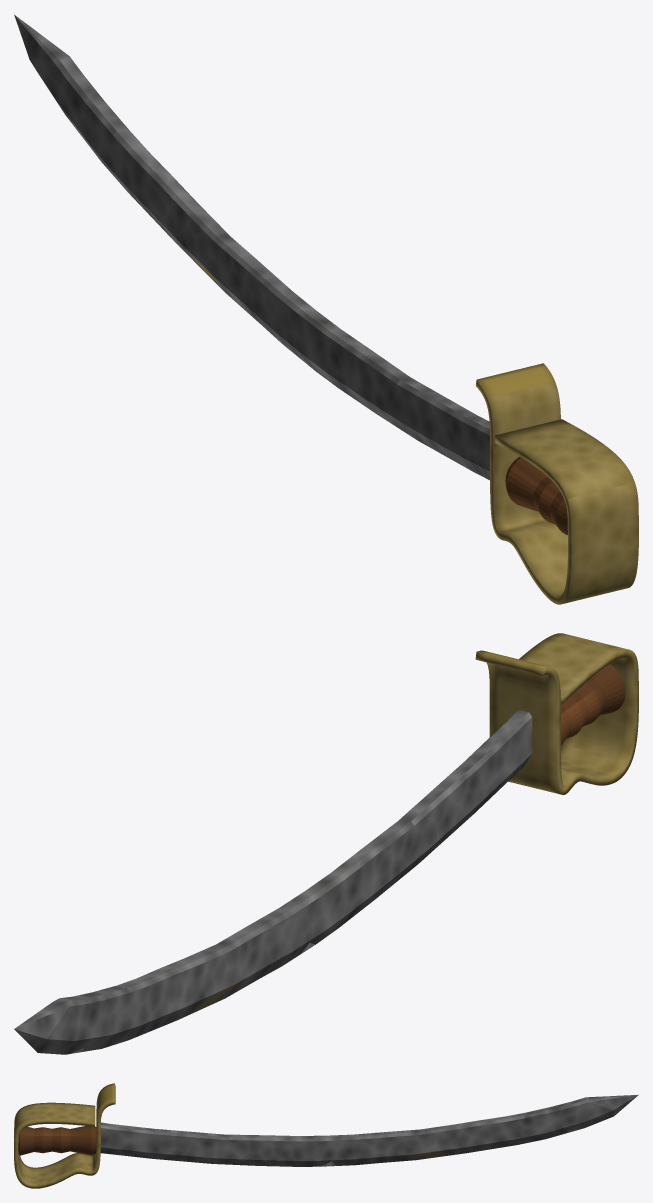
Rendered from Saber.fbx.
3 views of the same model, one above another, from view 1: azimuth 30°, elevation 25°; view 2: azimuth 150°, elevation 25°; view 3: azimuth 270°, elevation 25° (orthographic). The views are drawn at different scales.
Parts seen in each view (by area): view 1: Cube; view 2: Cube; view 3: Cube.
Part boxes in pixels (<box>): Cube: <box>14,14,638,604</box>; Cube: <box>14,633,638,1054</box>; Cube: <box>14,1083,638,1188</box>.
Bounding box in the file's own units: 172 × 409 × 2624.
1 material, 1 textured.
